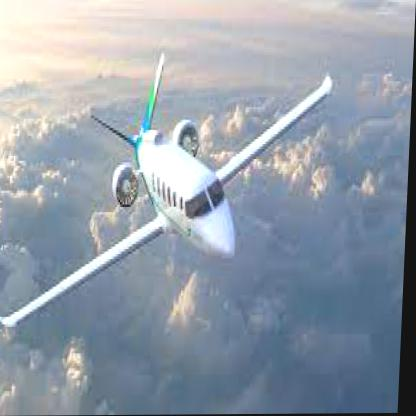Aircraft: (0, 52, 337, 334)
